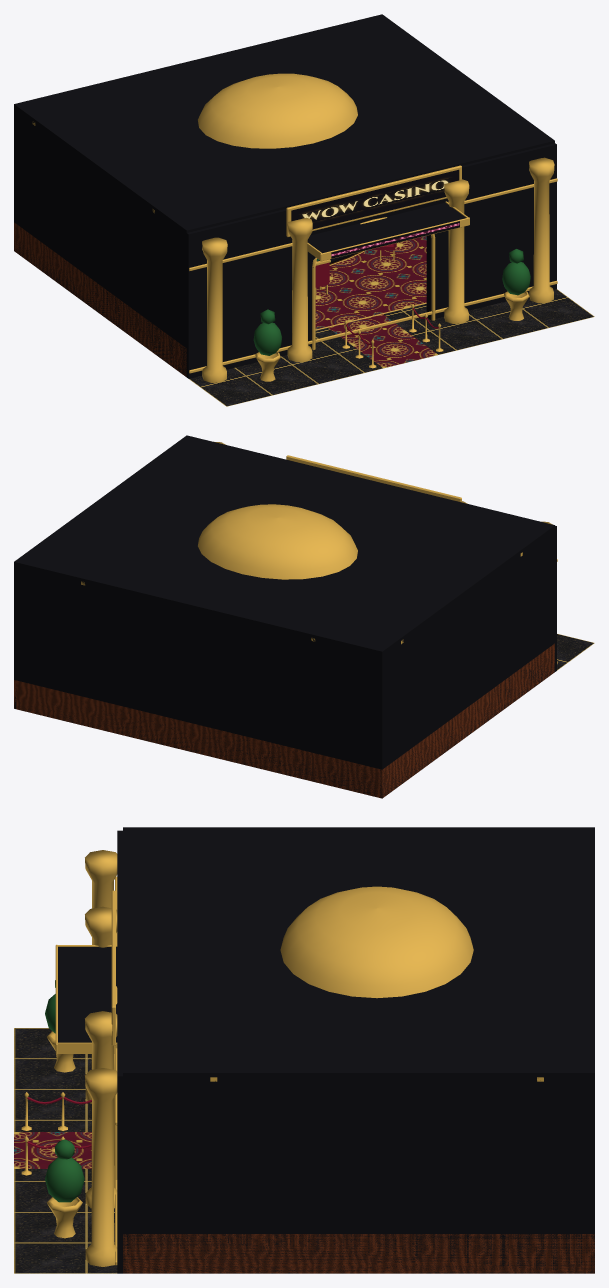
Rendered from casino_static.glb.
3 views of the same model, one above another, from view 1: azimuth 30°, elevation 25°; view 2: azimuth 150°, elevation 25°; view 3: azimuth 270°, elevation 25° (orthographic). The views are drawn at different scales.
Visible parts, largest first — view 1: floor; view 2: floor; view 3: floor.
Part boxes in pixels (left/top/right/bottom): floor: left=14, top=14, right=594, bottom=406; floor: left=14, top=435, right=594, bottom=798; floor: left=14, top=827, right=594, bottom=1273.
Bounding box in the file's own units: 16 × 7.37 × 16.
13 materials, 7 textured.
